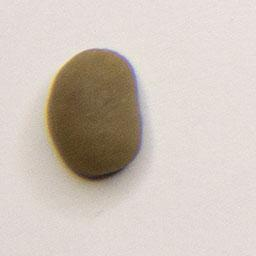premium: (43, 41, 151, 184)
